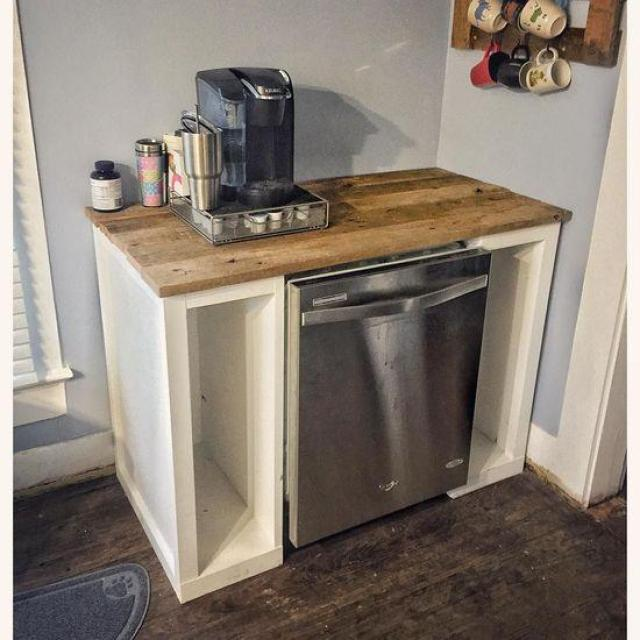dishwasher: (284, 241, 479, 532)
